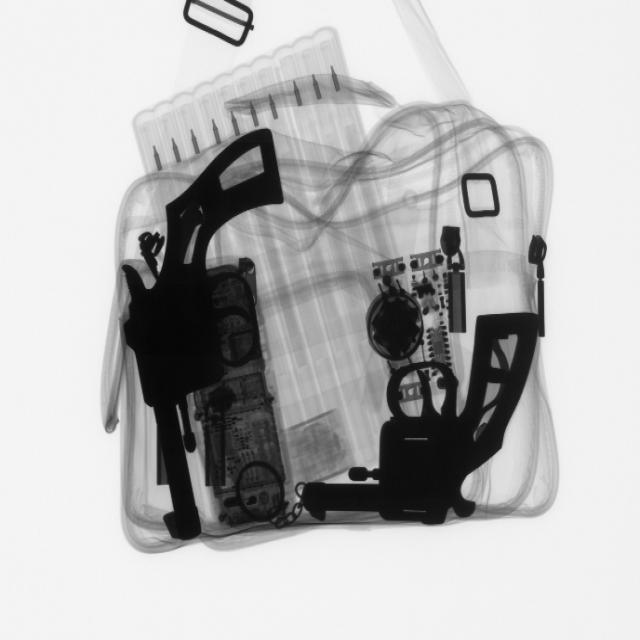GUN: (113, 107, 282, 555), (309, 296, 542, 530)
